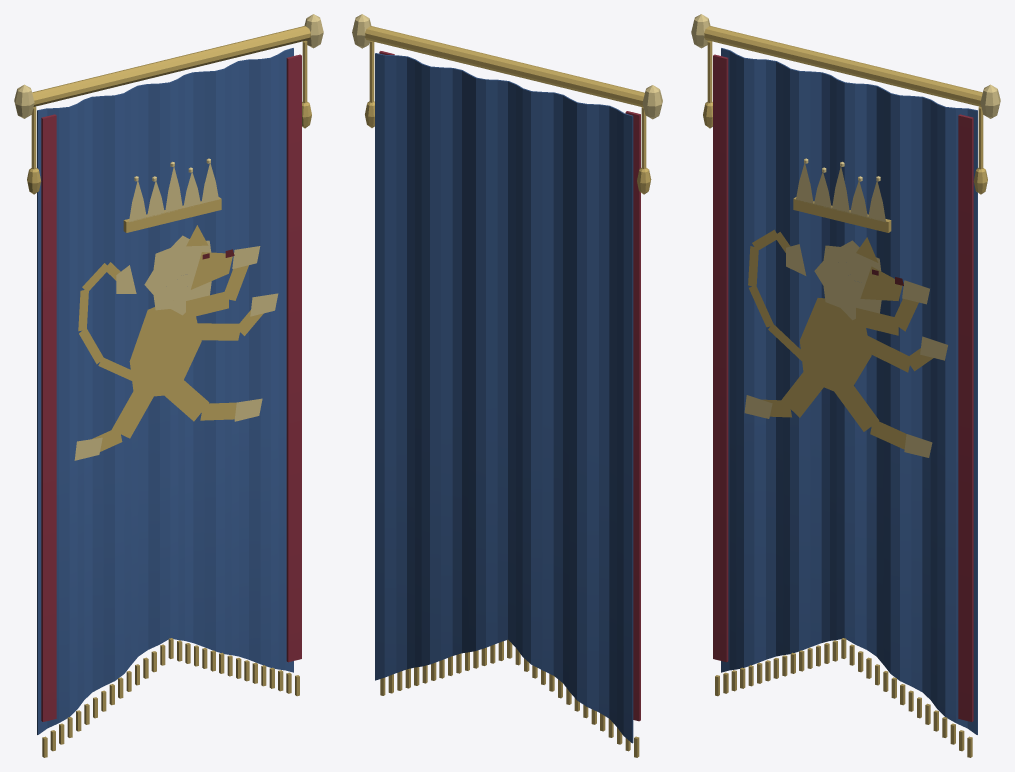
The model's file is palace_banner_grand.glb.
3 views of the same model, side by side, from view 1: azimuth 30°, elevation 25°; view 2: azimuth 150°, elevation 25°; view 3: azimuth 330°, elevation 25° (orthographic).
Visible parts, largest first — view 1: palace_banner_grand; view 2: palace_banner_grand; view 3: palace_banner_grand.
Boxes of the visible parts, x1,y1,x2,y2 form: palace_banner_grand: (14, 14, 323, 757); palace_banner_grand: (352, 14, 662, 757); palace_banner_grand: (691, 14, 1000, 757).
Bounding box in the file's own units: 1.68 × 3.52 × 0.1.
